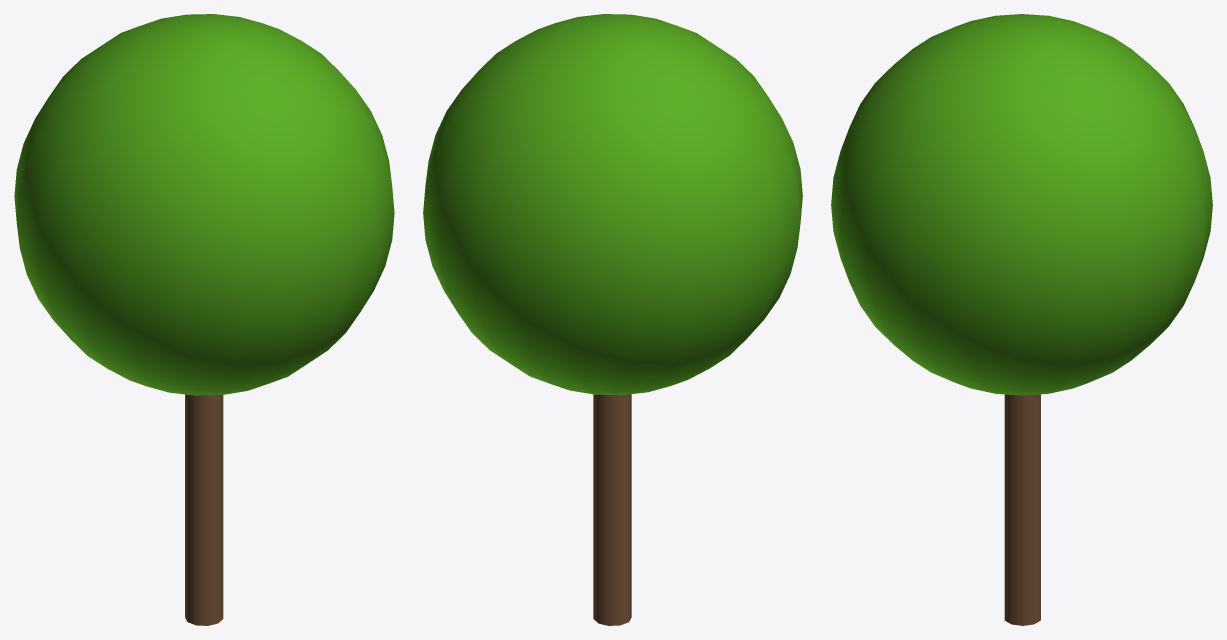
Rendered from Isl_9_Tree_1.fbx.
3 views of the same model, side by side, from view 1: azimuth 30°, elevation 25°; view 2: azimuth 150°, elevation 25°; view 3: azimuth 270°, elevation 25° (orthographic).
Visible parts, largest first — view 1: Isl_9_Tree_1; view 2: Isl_9_Tree_1; view 3: Isl_9_Tree_1.
Part boxes in pixels (x1,y1,x2,y2): Isl_9_Tree_1: (14, 14, 394, 625); Isl_9_Tree_1: (423, 14, 802, 625); Isl_9_Tree_1: (831, 14, 1212, 625).
Size of the model in its own units: 248 by 248 by 420.
Materials: 1 (1 with a texture image).
